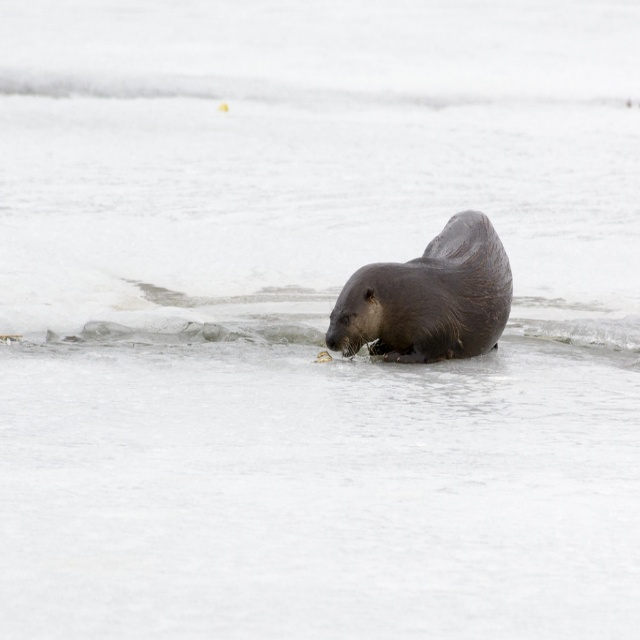Sea lion: (324, 212, 515, 358)
